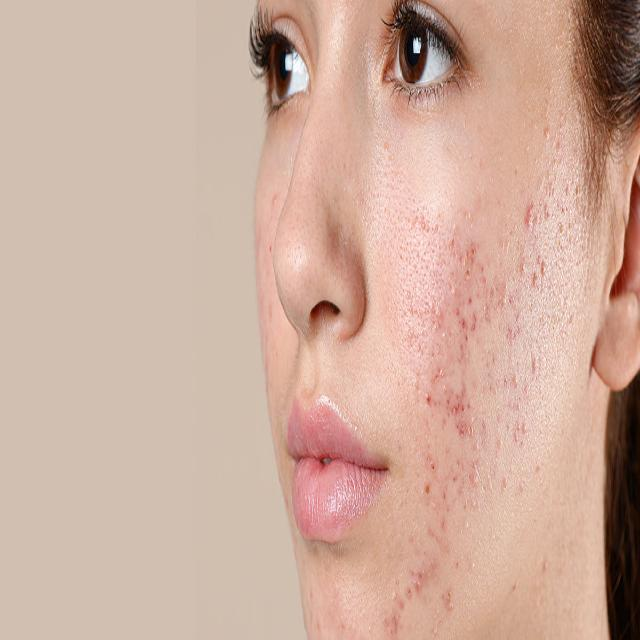acne: (416, 197, 526, 465)
oily: (265, 0, 567, 640)
pores: (366, 156, 404, 332)
